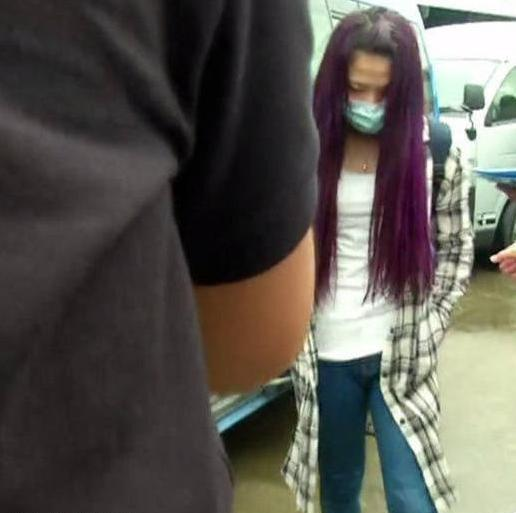OK: (339, 68, 405, 134)
